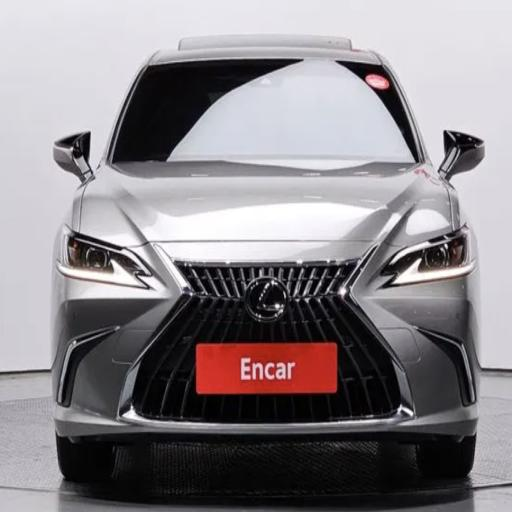normal: (33, 16, 499, 503)
